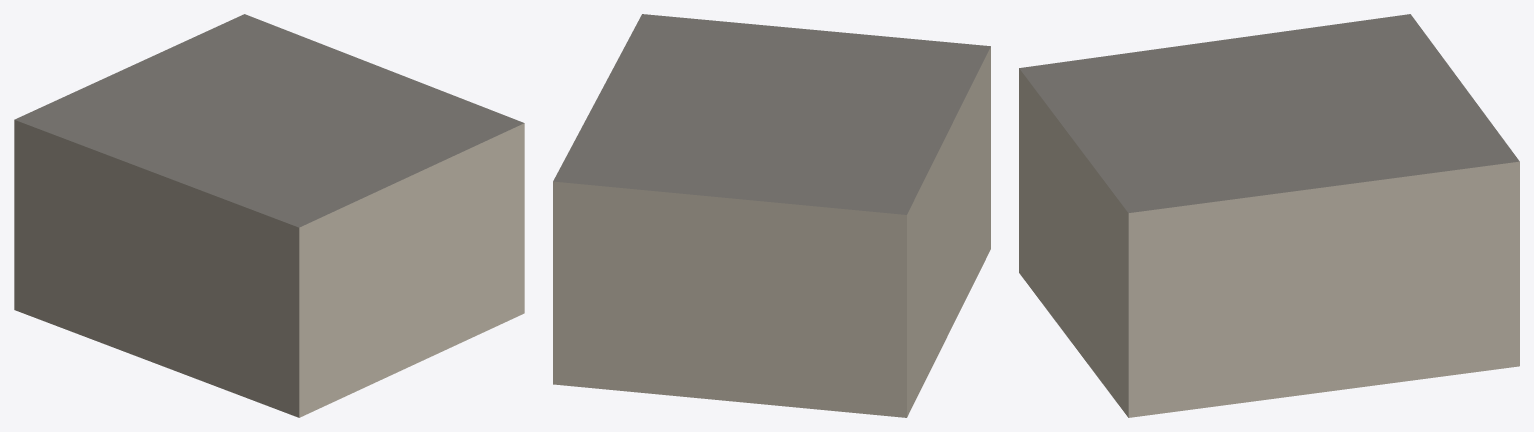
3 renders of one model, left to right at view 1: azimuth 30°, elevation 25°; view 2: azimuth 150°, elevation 25°; view 3: azimuth 270°, elevation 25°, orthographic. The views are drawn at different scales.
Parts seen in each view (by area): view 1: HP-w493784117; view 2: HP-w493784117; view 3: HP-w493784117.
Part boxes in pixels (x1,y1,x2,y2): HP-w493784117: (14, 14, 524, 417); HP-w493784117: (553, 14, 990, 417); HP-w493784117: (1019, 14, 1519, 417).
Size of the model in its own units: 37.55 by 18 by 39.89.
